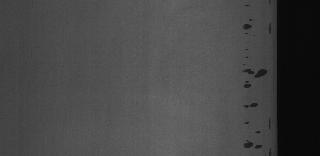oil spot: (238, 61, 270, 91), (240, 140, 274, 156), (240, 98, 264, 109), (242, 17, 258, 31), (265, 23, 275, 36), (241, 116, 253, 126), (243, 43, 250, 59), (265, 118, 273, 130), (242, 4, 252, 10), (254, 132, 262, 138), (265, 0, 273, 6)
